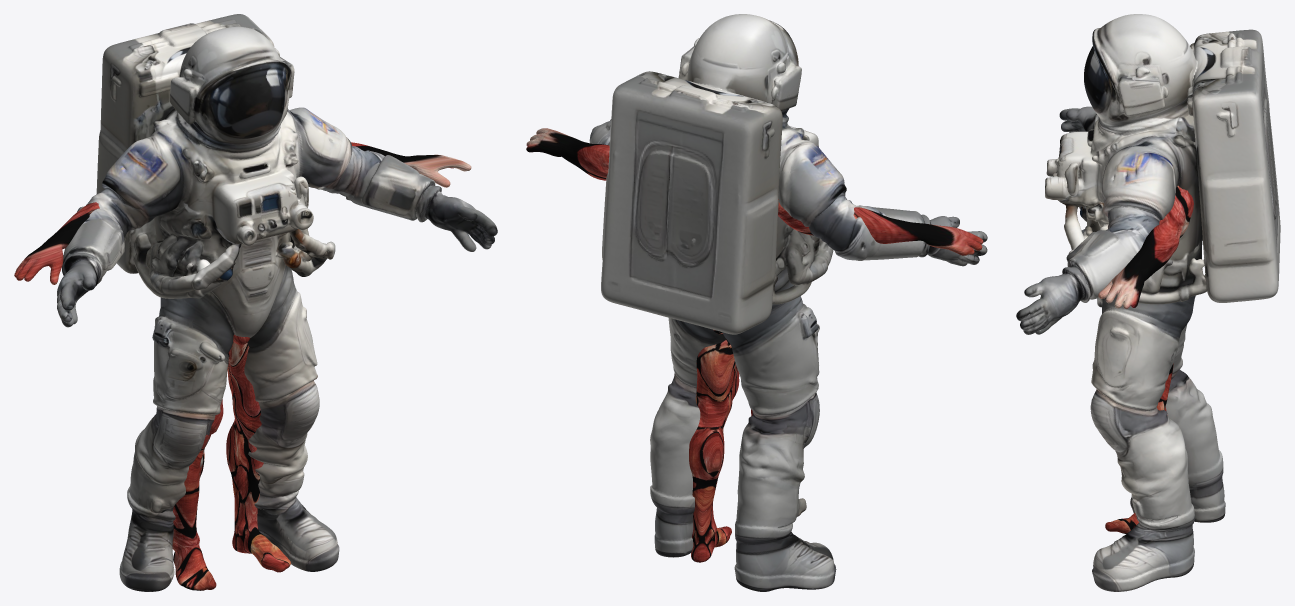
The model's file is cosmo11_lite.glb.
3 renders of one model, left to right at view 1: azimuth 30°, elevation 25°; view 2: azimuth 150°, elevation 25°; view 3: azimuth 270°, elevation 25°, orthographic.
Visible parts, largest first — view 1: tripo_node_cc1ba881-04a8-4533-97c3-d4a9399c07a1, AETHER_Muscle_Model; view 2: tripo_node_cc1ba881-04a8-4533-97c3-d4a9399c07a1, AETHER_Muscle_Model; view 3: tripo_node_cc1ba881-04a8-4533-97c3-d4a9399c07a1, AETHER_Muscle_Model.
Boxes of the visible parts, x1,y1,x2,y2 form: tripo_node_cc1ba881-04a8-4533-97c3-d4a9399c07a1: (57,14,497,591); AETHER_Muscle_Model: (14,142,471,590); tripo_node_cc1ba881-04a8-4533-97c3-d4a9399c07a1: (589,14,987,591); AETHER_Muscle_Model: (526,128,983,562); tripo_node_cc1ba881-04a8-4533-97c3-d4a9399c07a1: (1016,14,1280,591); AETHER_Muscle_Model: (1098,186,1193,533).
Size of the model in its own units: 13.82 by 15.76 by 7.1.
Materials: 2 (2 with a texture image).
